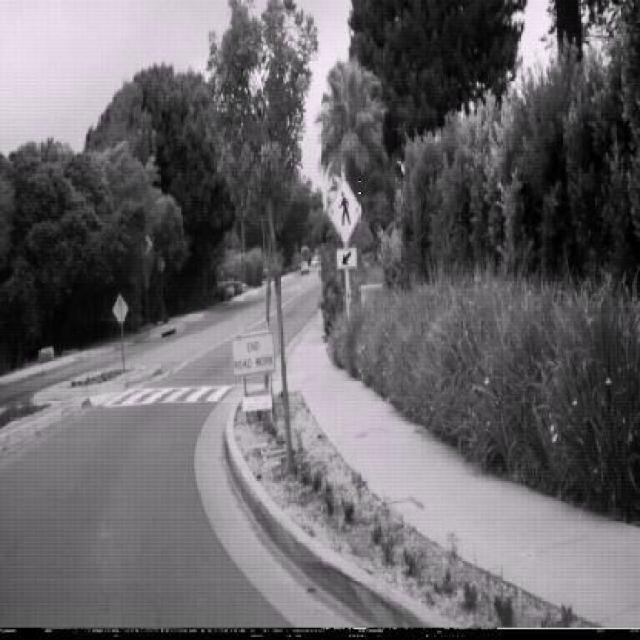pedestrianCrossing: (326, 178, 362, 250)
